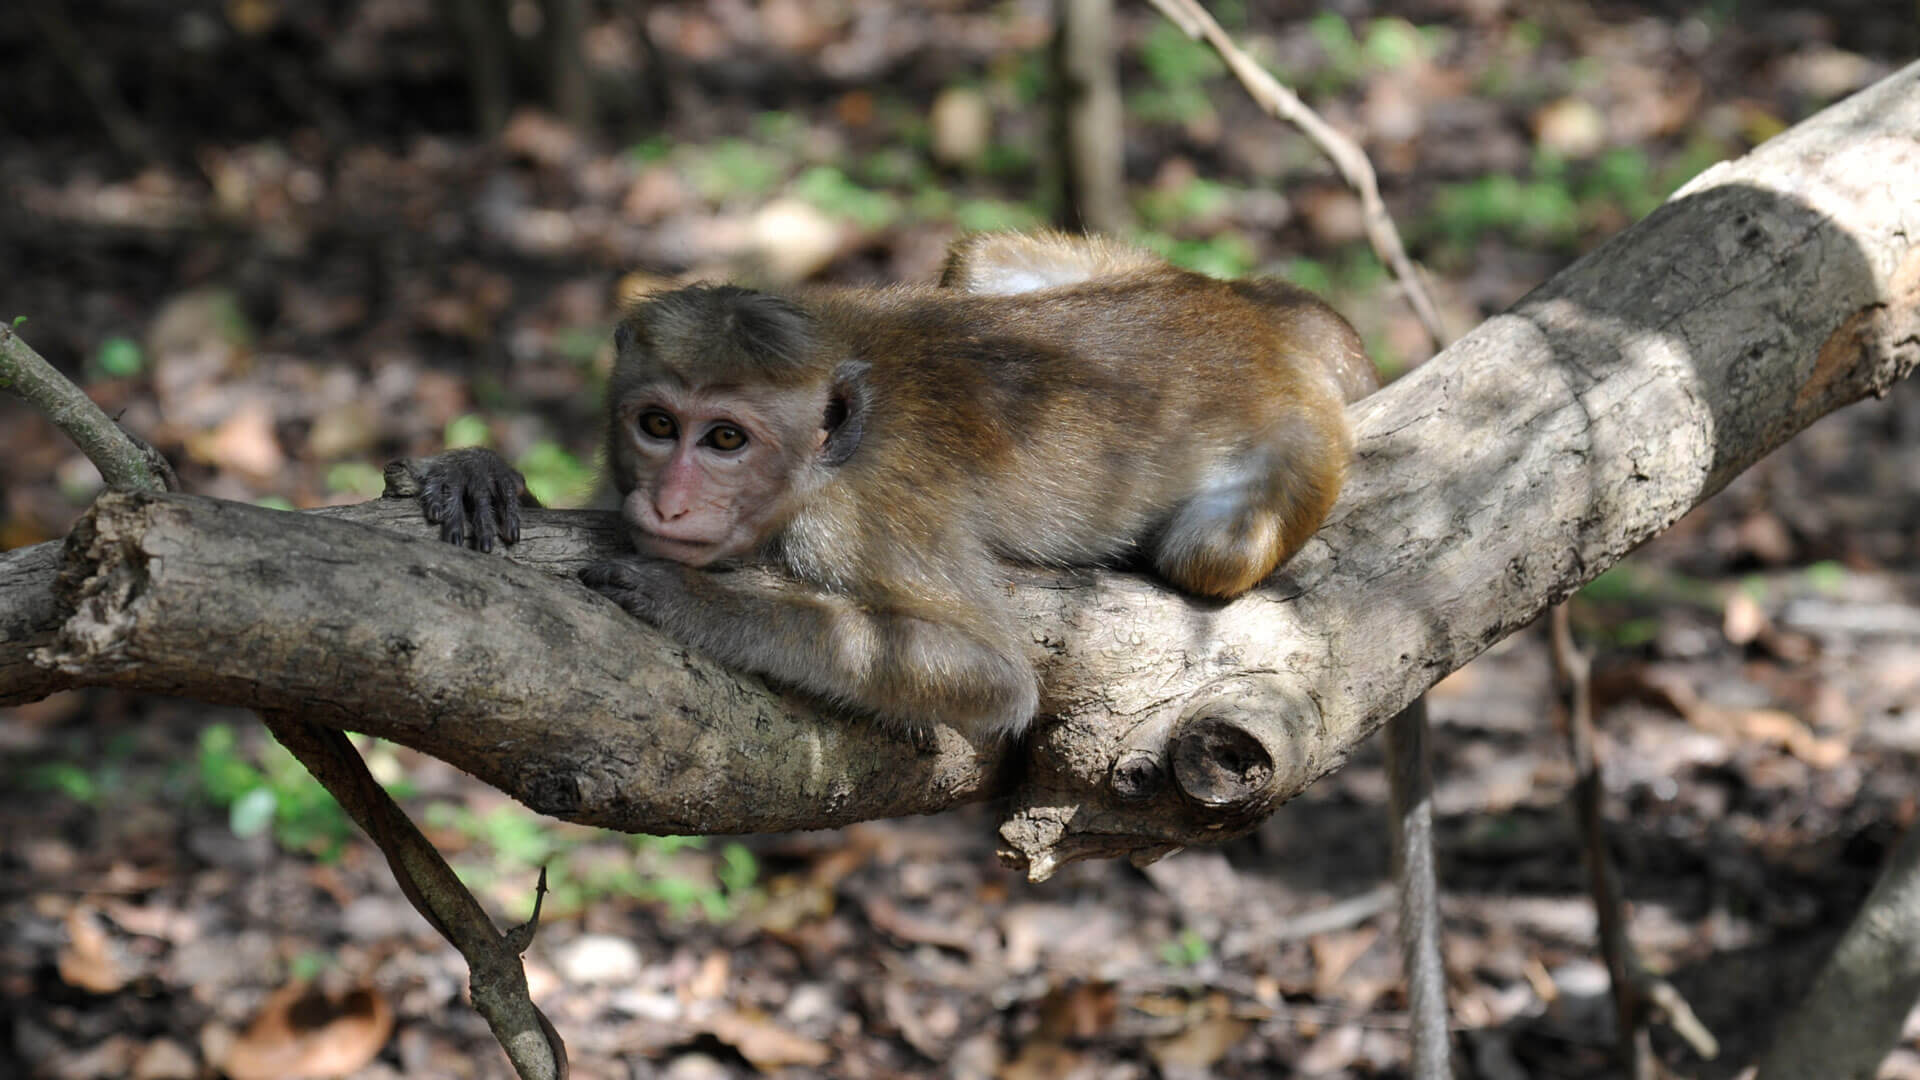Monkey: (546, 174, 1398, 736)
